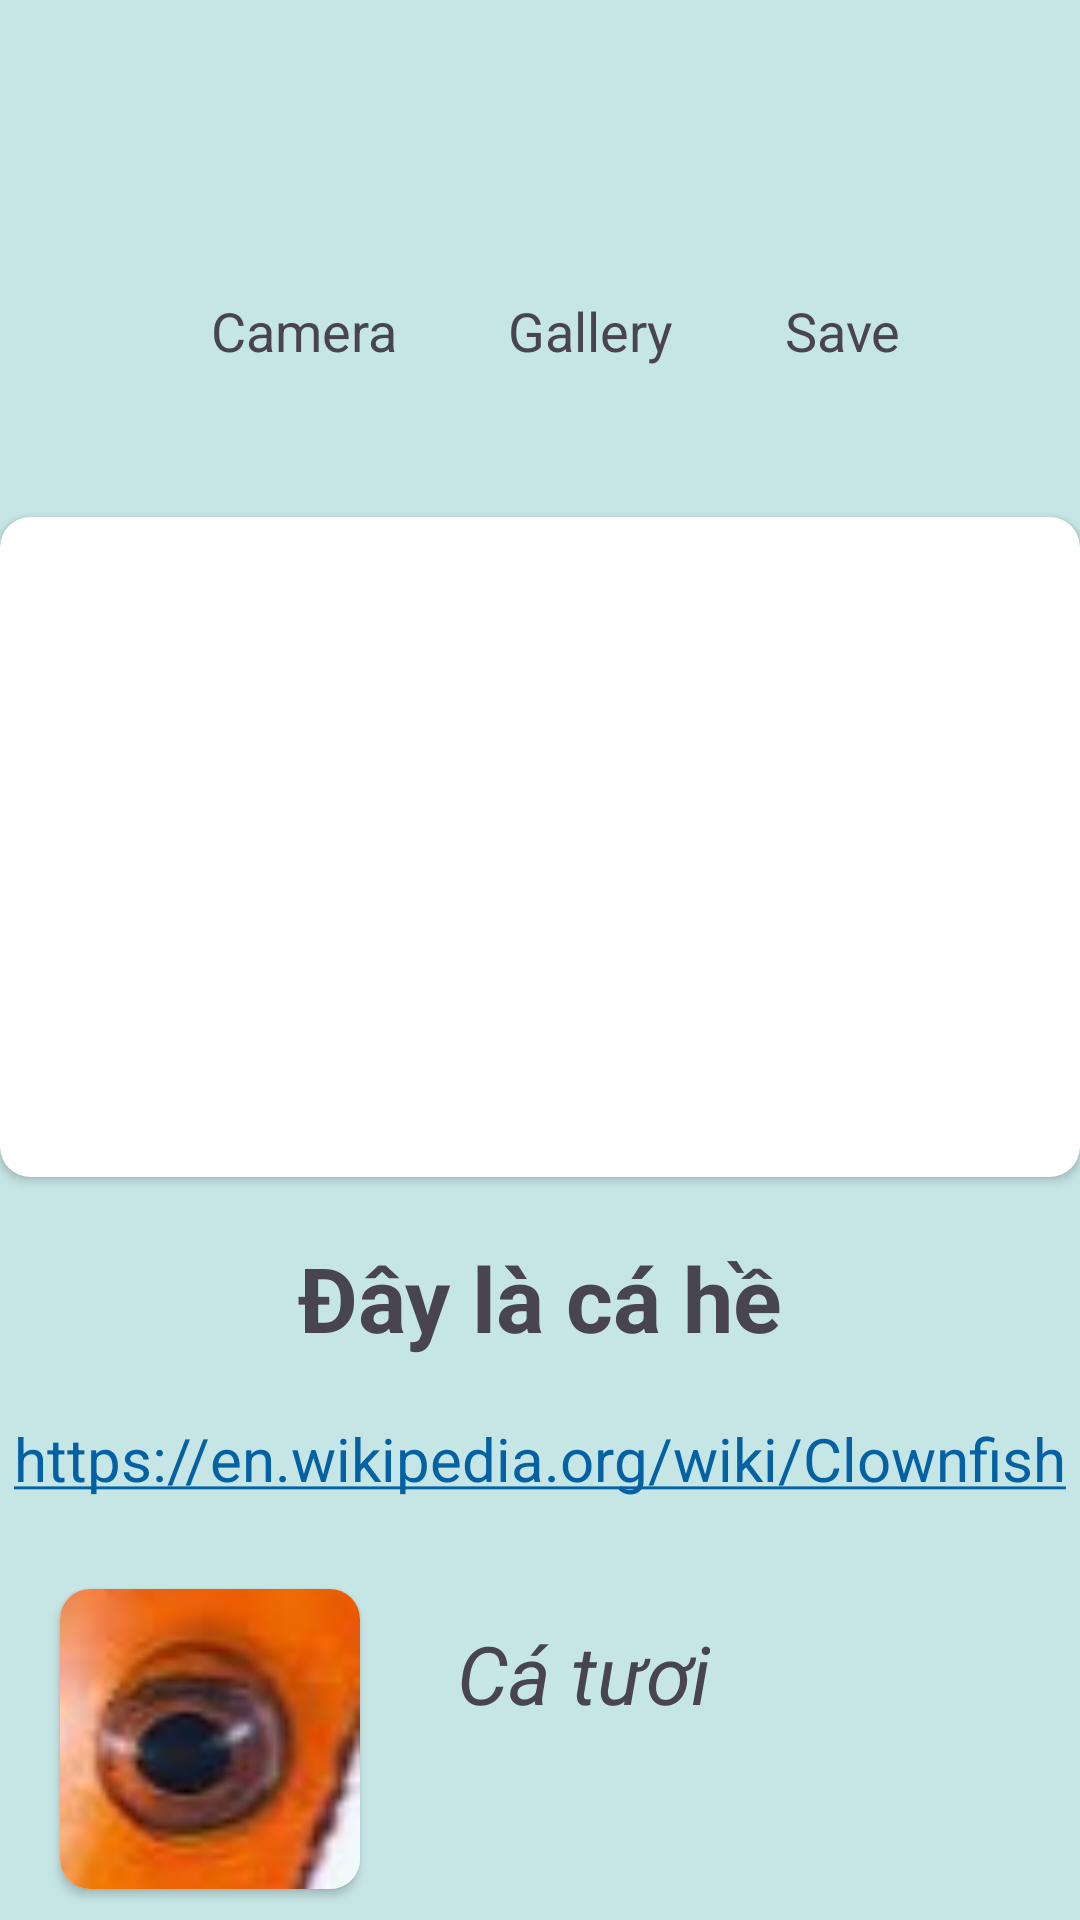

Icons on this 1080px x 1920px Android screen, each with the point to tap as [x,y]:
clown fish eye: [210,1739]
